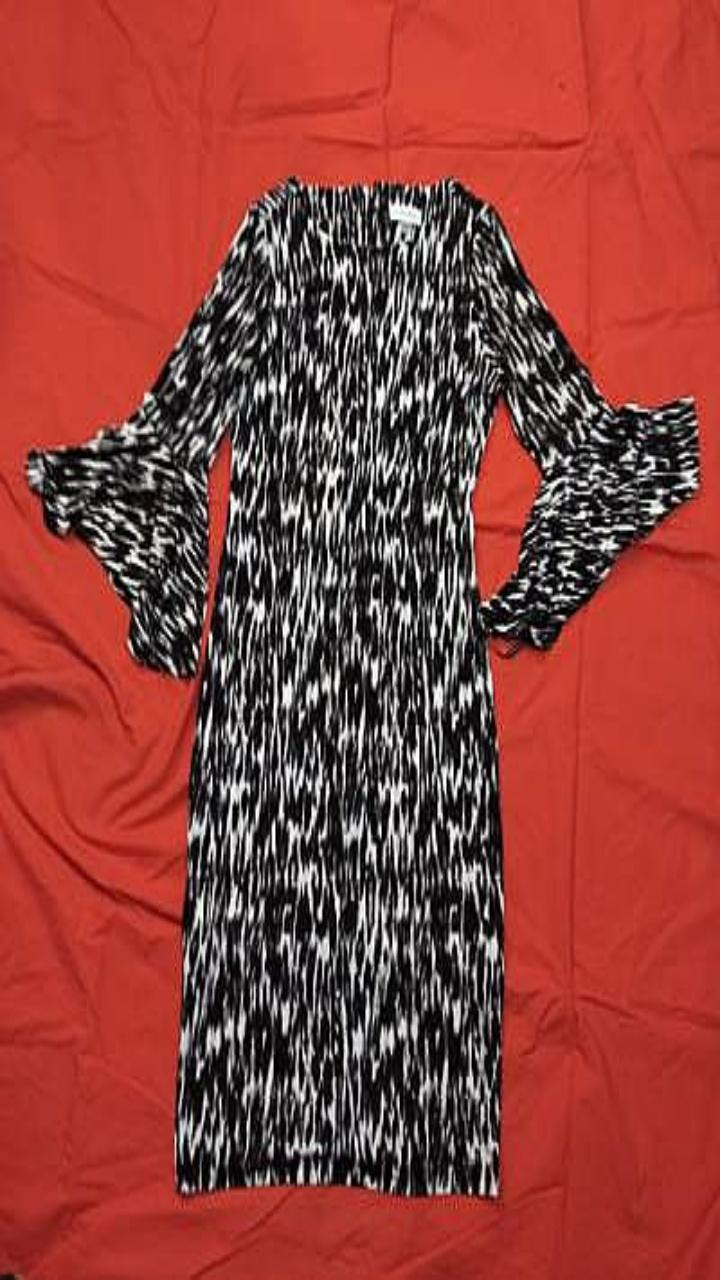T-Shirt: (26, 176, 699, 1196)
